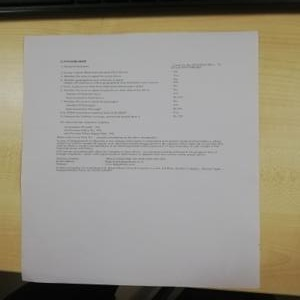text: (54, 58, 223, 137), (53, 137, 226, 175)
